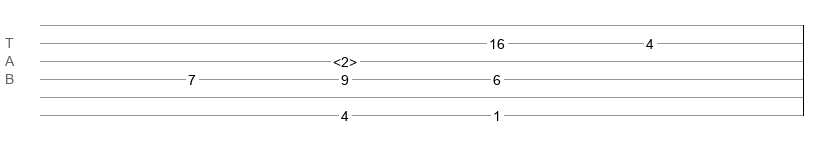1: (493, 108, 501, 118)
16: (489, 36, 505, 46)
4: (341, 108, 349, 118), (646, 36, 654, 46)
6: (493, 72, 501, 82)
7: (188, 72, 196, 82)
9: (341, 72, 349, 82)
harmonic: (333, 54, 357, 64)
